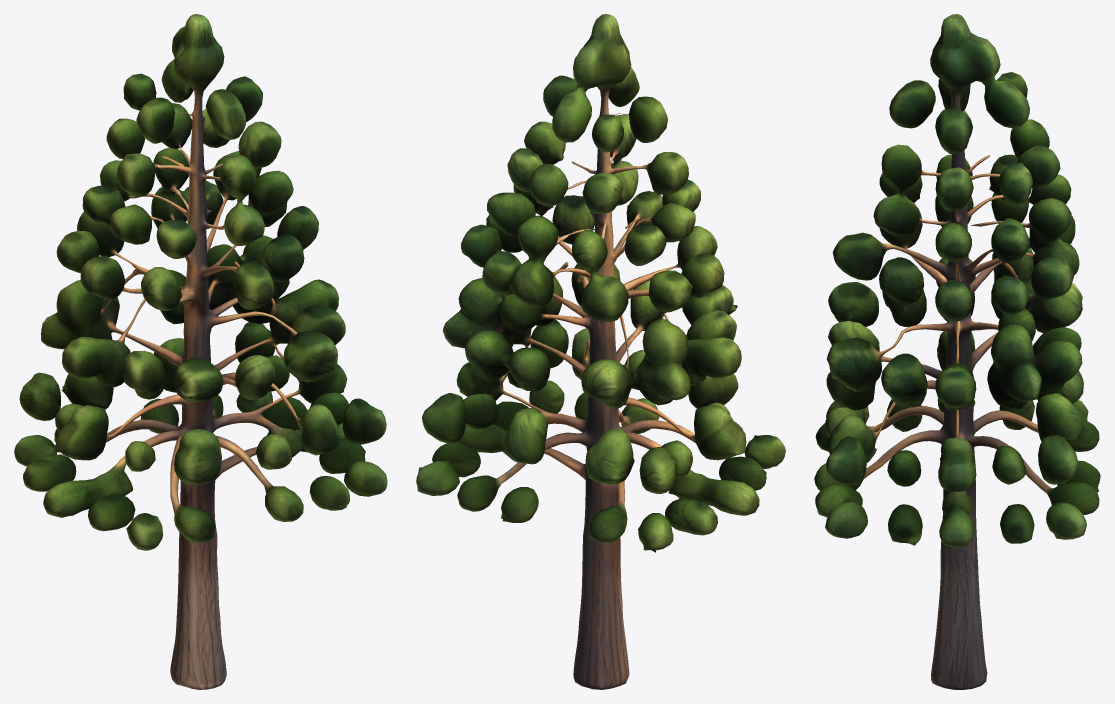
Rendered from pine-tree.glb.
3 renders of one model, left to right at view 1: azimuth 30°, elevation 25°; view 2: azimuth 150°, elevation 25°; view 3: azimuth 270°, elevation 25°, orthographic.
Parts seen in each view (by area): view 1: model; view 2: model; view 3: model.
Part boxes in pixels (x1,y1,x2,y2): model: [14, 14, 387, 689]; model: [416, 14, 785, 689]; model: [814, 14, 1100, 689].
Size of the model in its own units: 0.8305 by 1.75 by 0.6849.
Materials: 1 (1 with a texture image).
